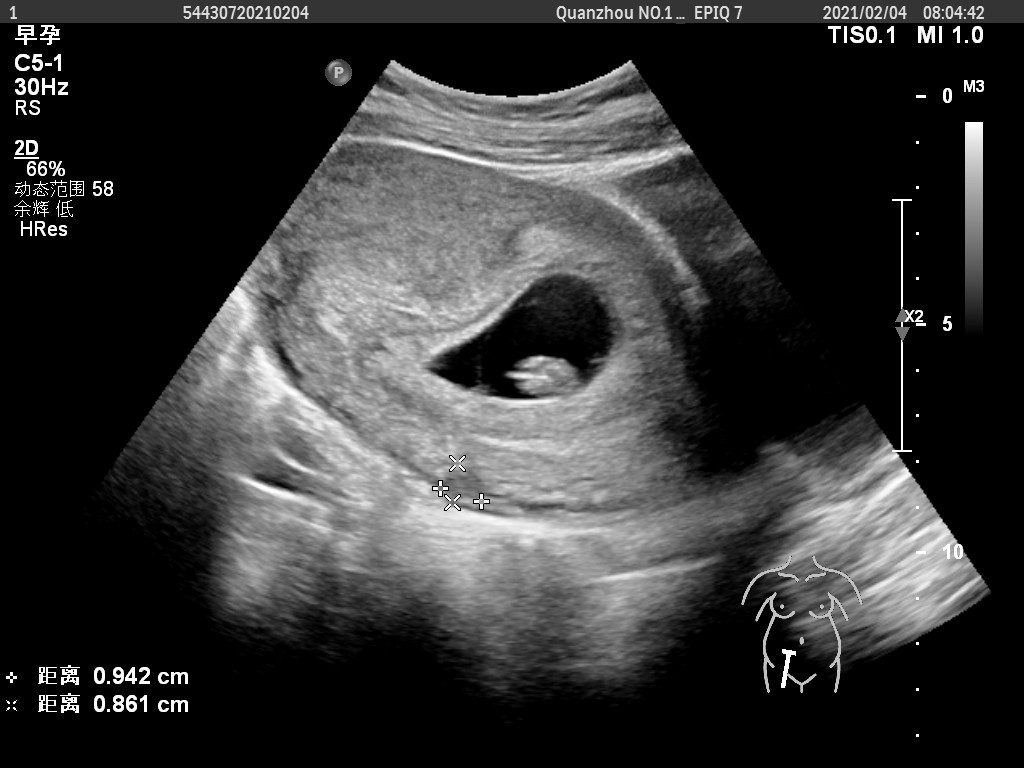肌瘤: (447, 474, 478, 500)
